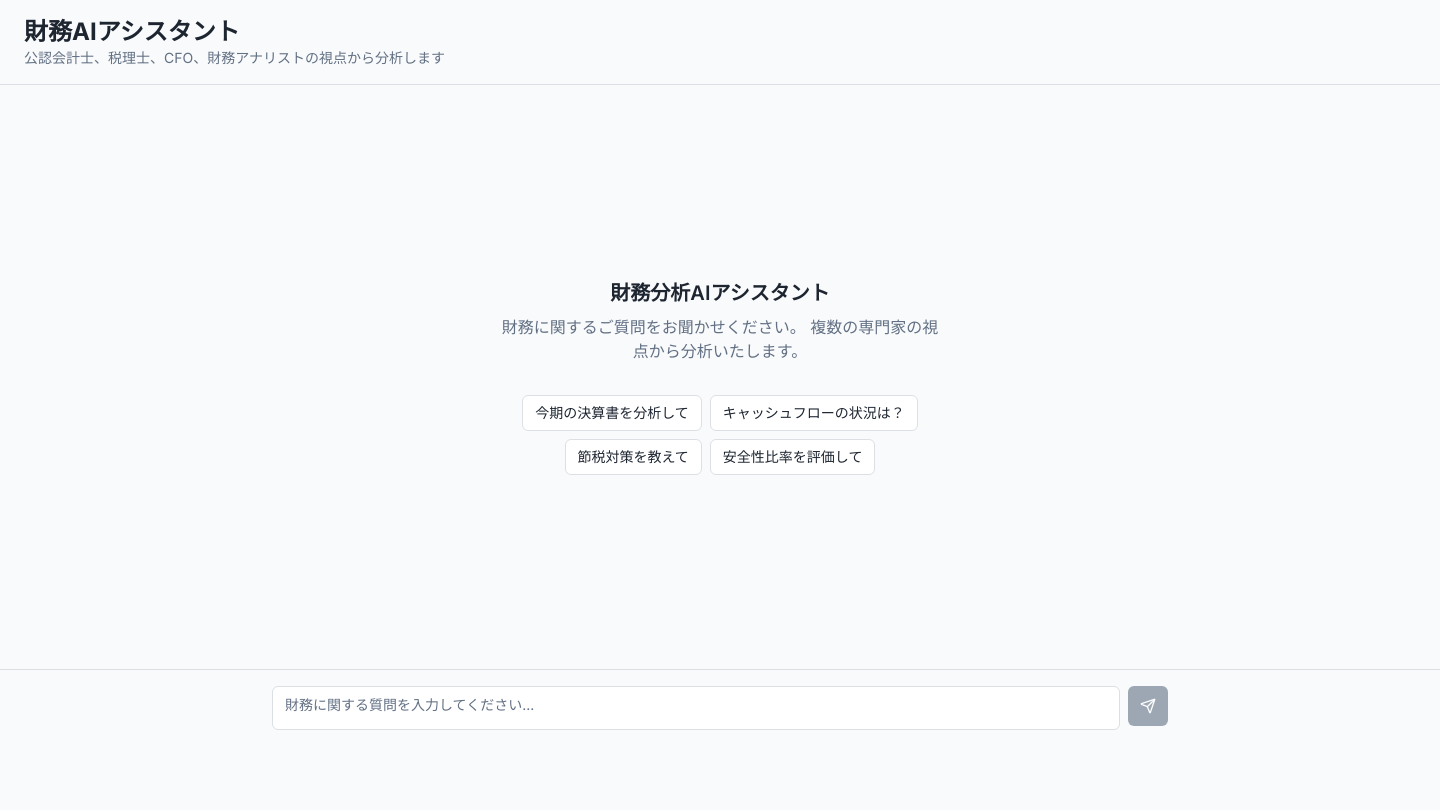
ChatPage › should display error message on API failure
The width and height of the screenshot is (1440, 810).
Type "テスト" into the text box.
click(696, 708); type("テスト")  # box x1=272 y1=686 x2=1120 y2=730
Then press Enter
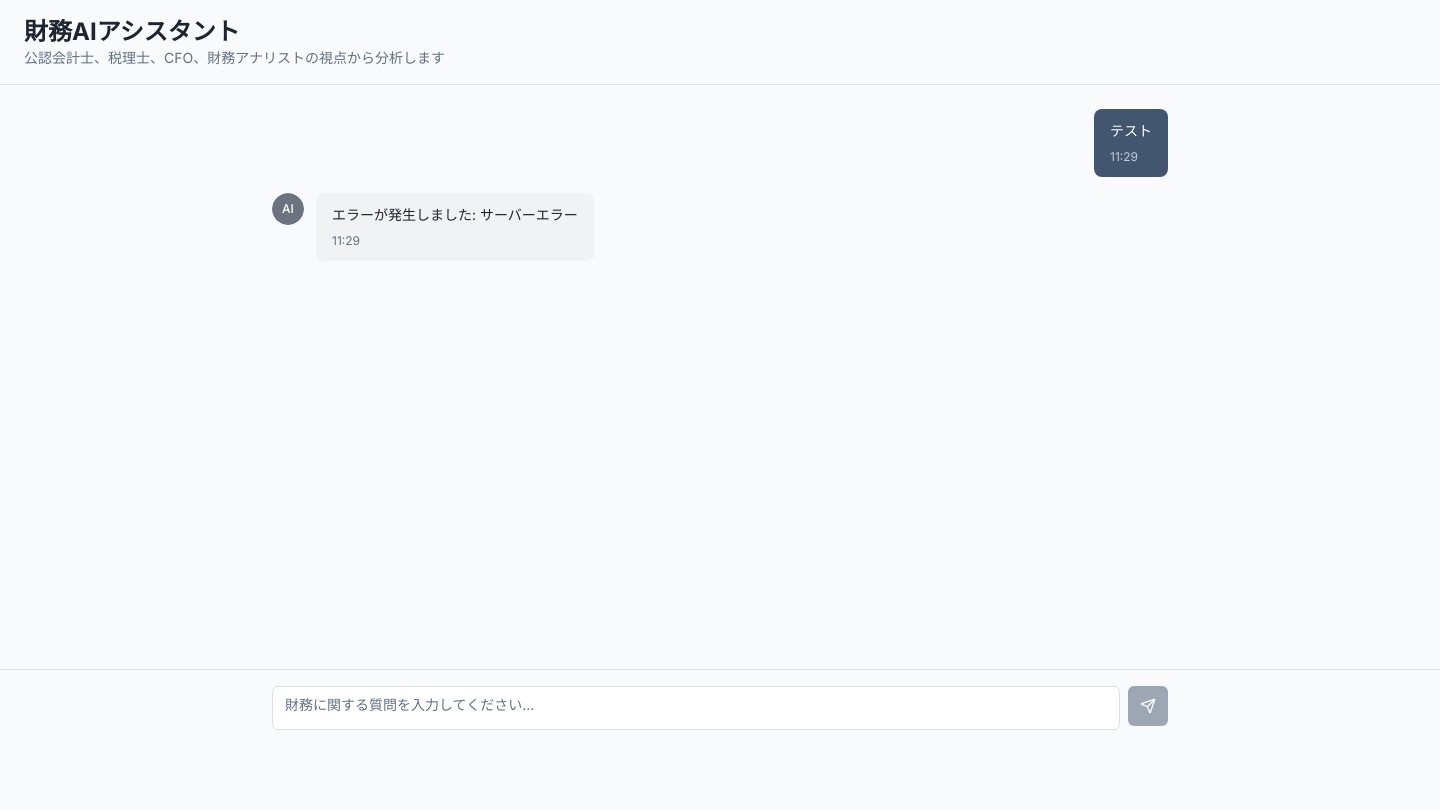
Check: the text "エラーが発生しました: サーバーエラー" is shown, box x1=332 y1=205 x2=578 y2=225
